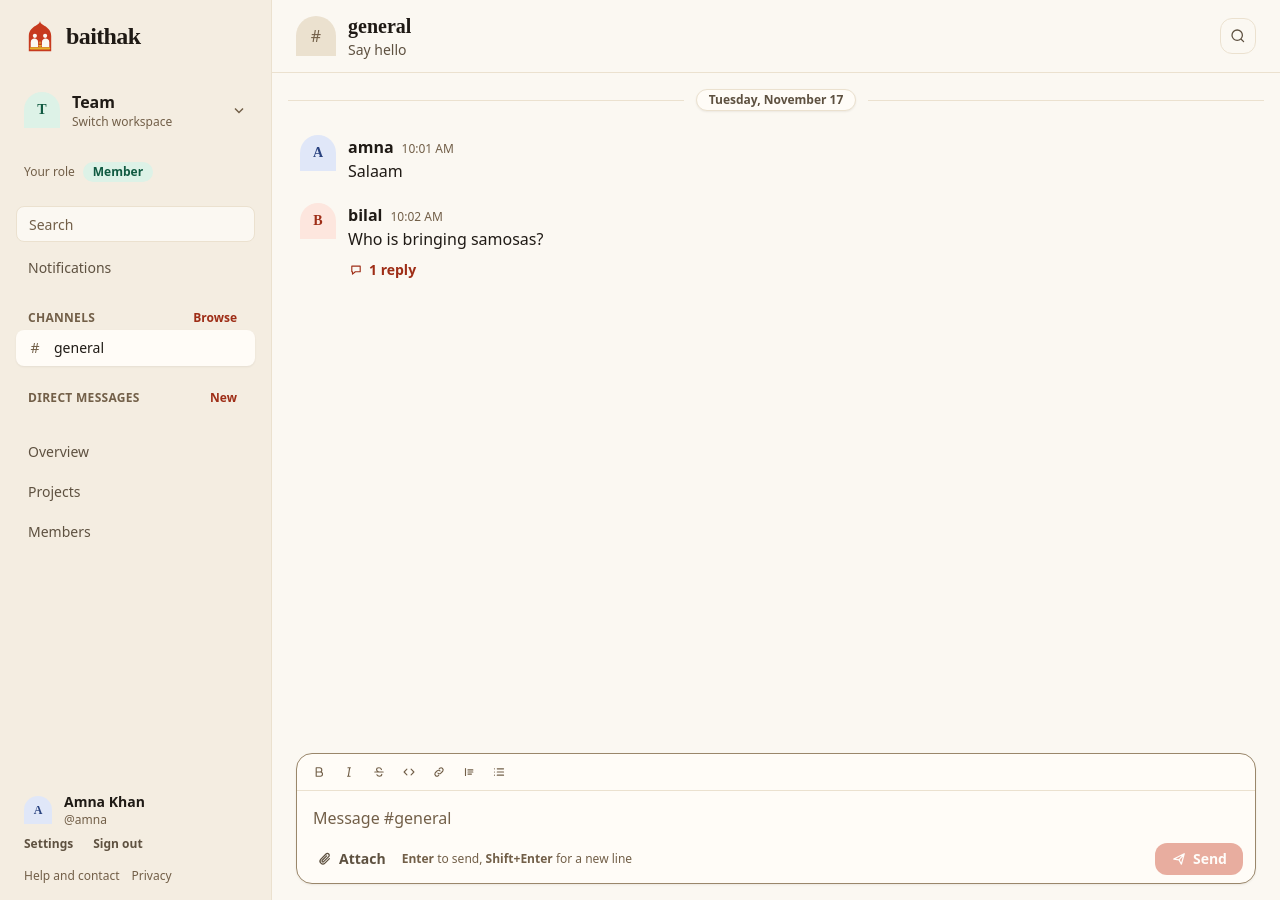
Test: threads › replies open beside the channel, and a reply can also go to the channel
Click the button "1 reply" at (383, 270), box [342,257,423,283]
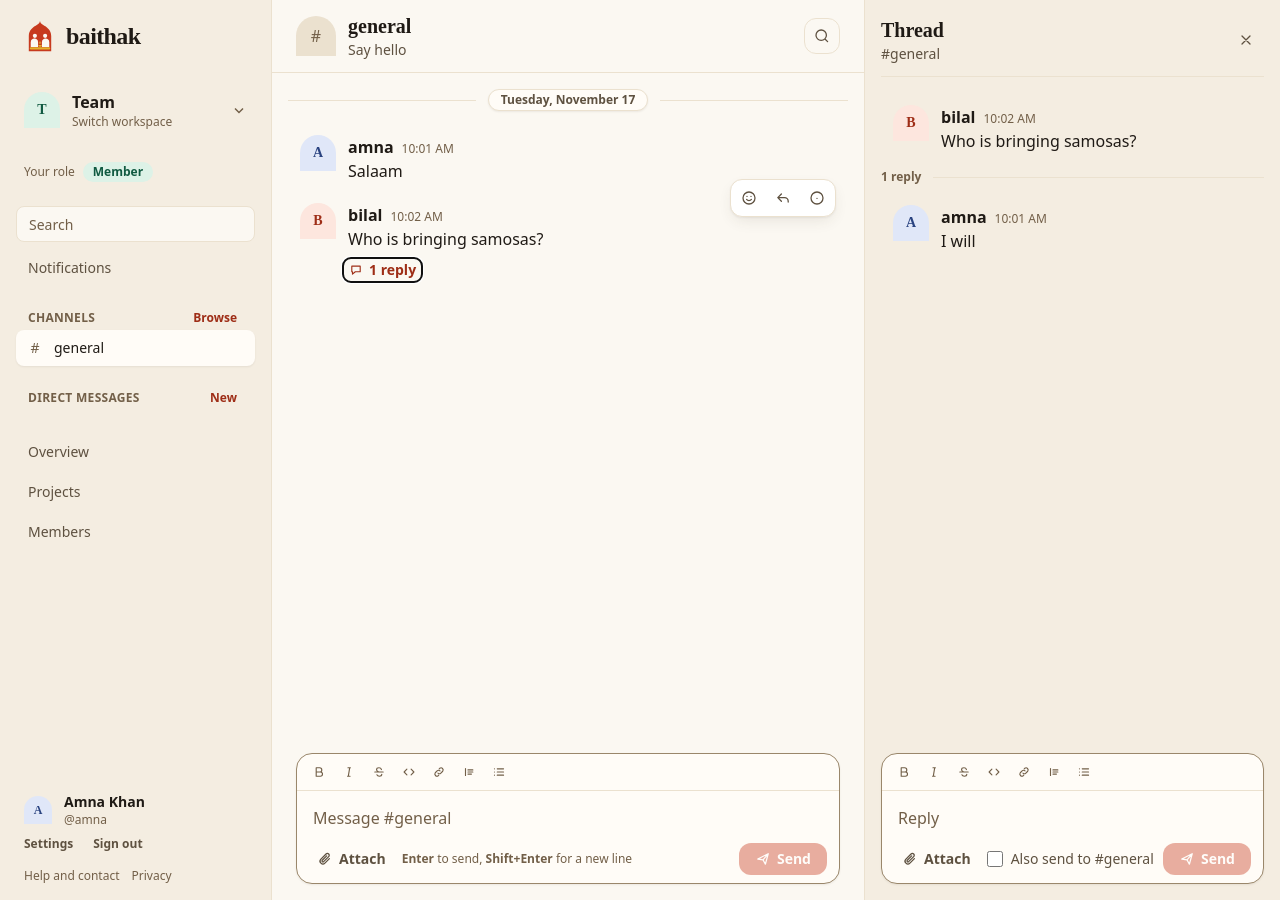
expect the text "I will" is shown: met, box [941,230,976,252]
Click the checkbox labelled "Also send to #general" at (995, 859), box [987,851,1003,867]
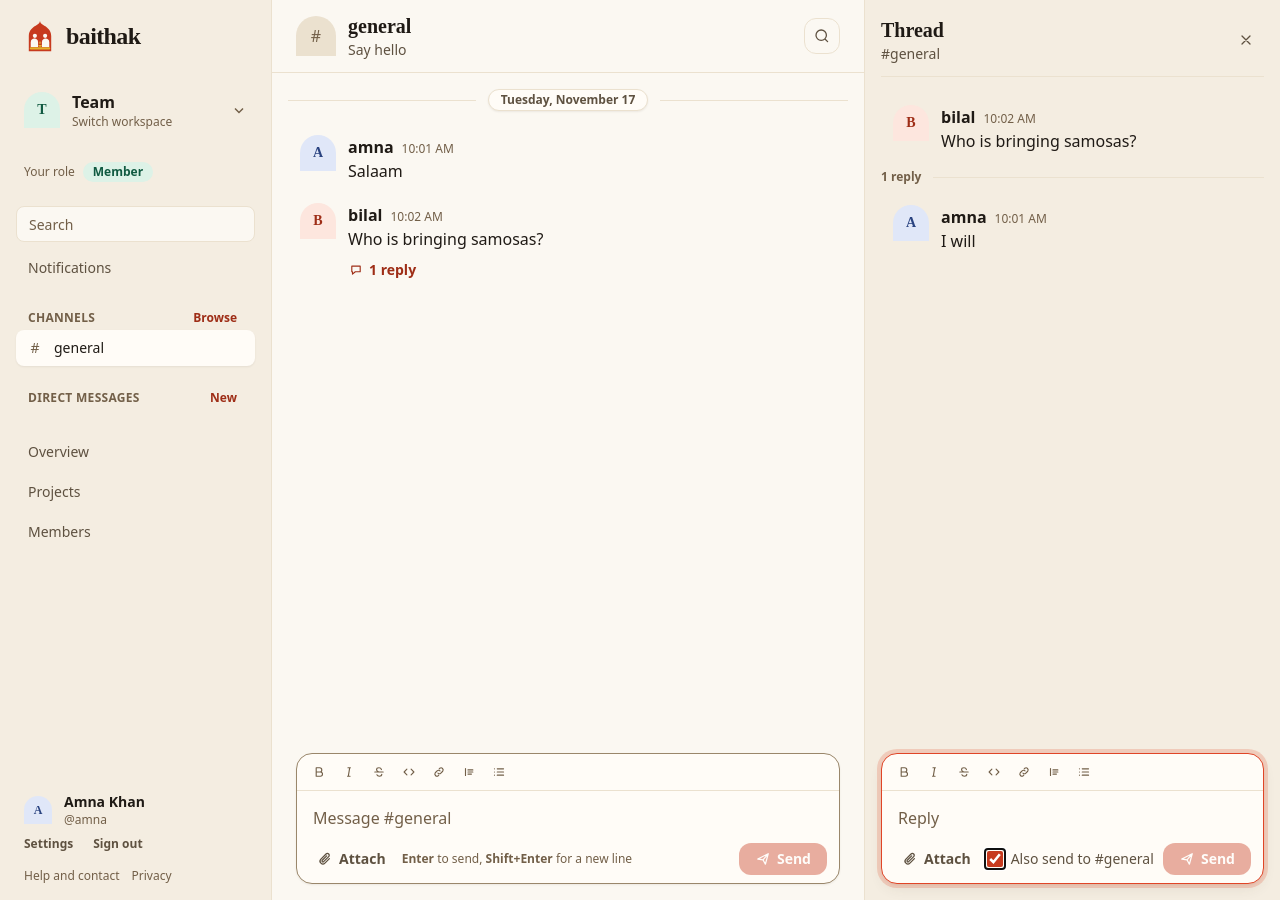
Type "With chutney" into the dropdown labelled "Reply" at (1072, 819), box [890,799,1255,839]
Then press Enter
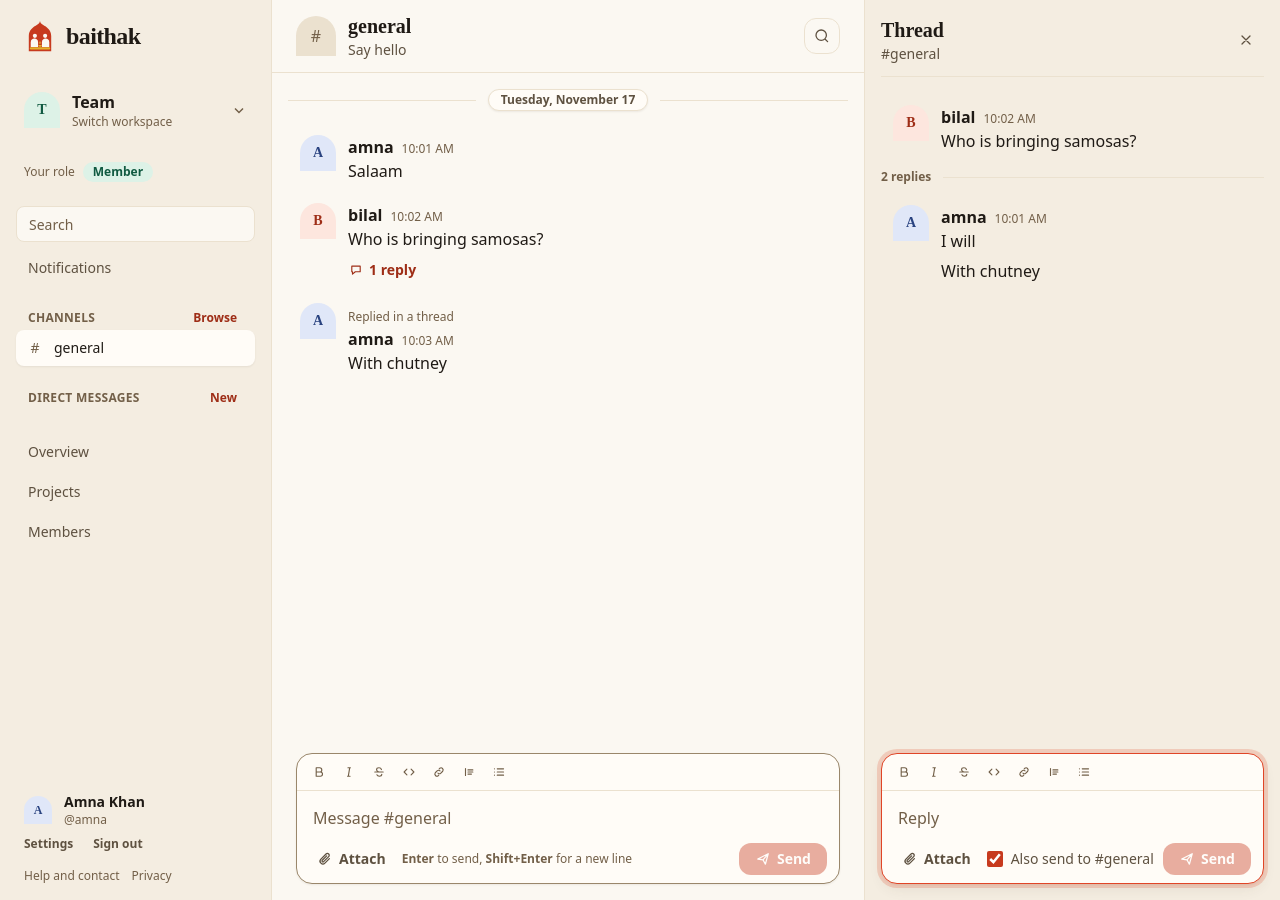
expect the text "With chutney" below "I will" is shown: met, box [941,260,1040,282]
expect the text "With chutney" is shown 2 times: met, box [348,352,447,374]; [941,260,1040,282]
